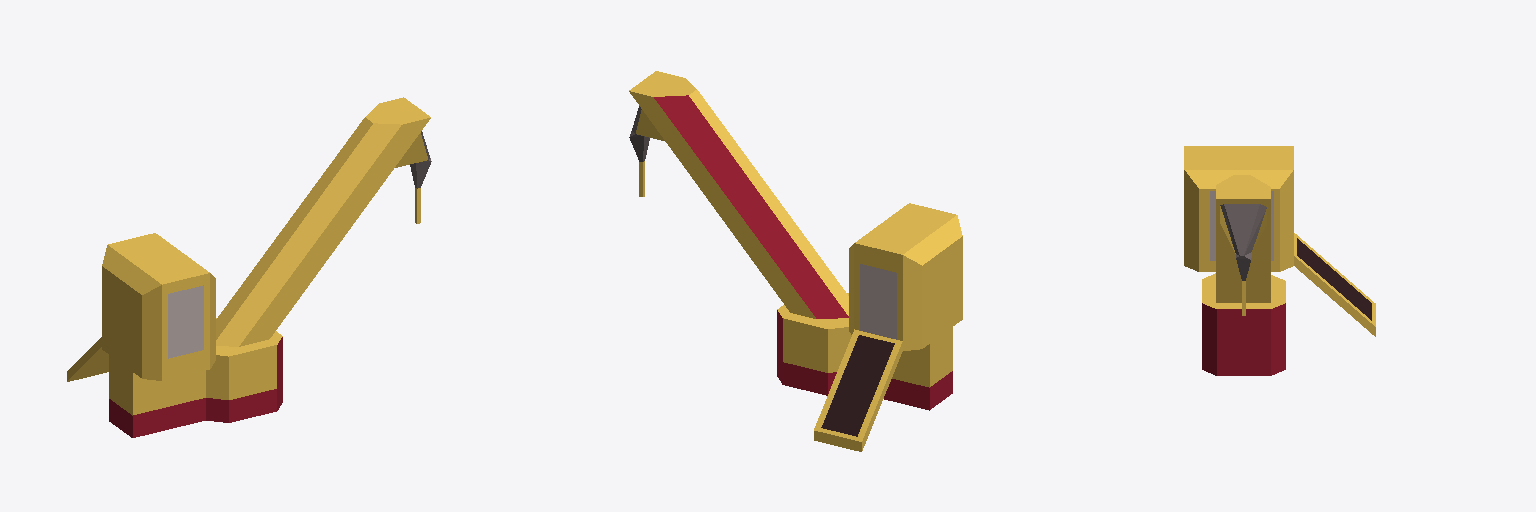
The picture shows the model from 3 angles: view 1: azimuth 30°, elevation 25°; view 2: azimuth 150°, elevation 25°; view 3: azimuth 270°, elevation 25°; orthographic projection.
Parts seen in each view (by area): view 1: pCube2; view 2: pCube2; view 3: pCube2.
Boxes of the visible parts, box(x1,y1,x2,y2) form: pCube2: box(67, 97, 431, 437); pCube2: box(629, 71, 962, 451); pCube2: box(1184, 146, 1375, 375).
Size of the model in its own units: 840 by 660 by 450.
Materials: 1 (1 with a texture image).